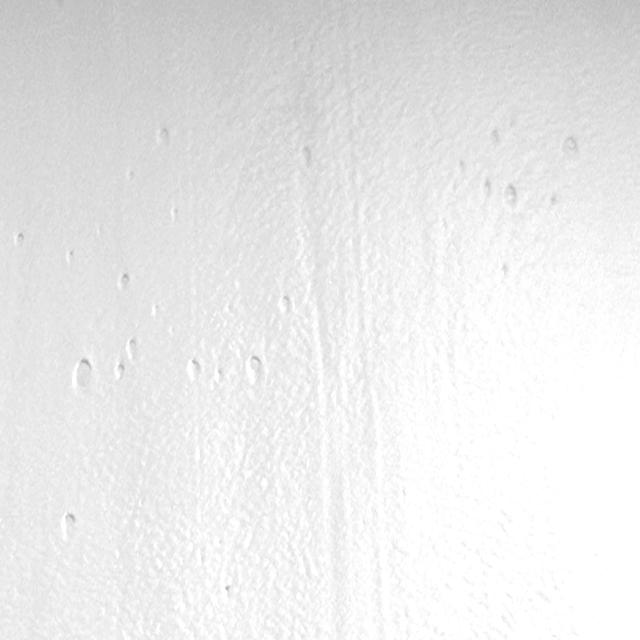pin holes: (68, 356, 96, 395), (242, 352, 266, 384), (58, 510, 80, 542), (497, 182, 519, 210), (558, 134, 580, 160), (153, 124, 173, 151), (275, 293, 295, 318), (115, 270, 134, 296), (185, 360, 203, 386), (296, 146, 315, 170), (484, 127, 502, 152), (494, 261, 512, 284), (126, 338, 142, 363), (210, 364, 226, 387), (478, 176, 492, 202), (219, 580, 234, 604), (111, 362, 127, 384), (11, 230, 26, 249), (148, 303, 162, 321), (122, 167, 136, 184), (545, 193, 558, 210), (63, 249, 75, 267), (167, 207, 179, 225)
